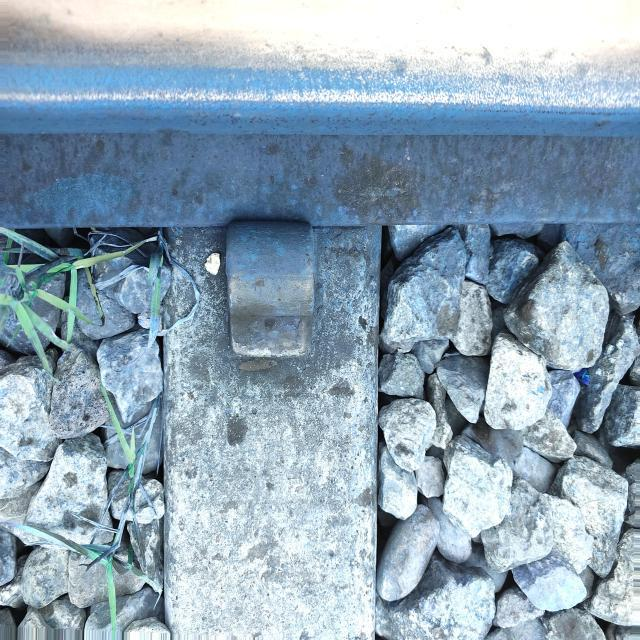Missing Fastener: (203, 186, 352, 400)
